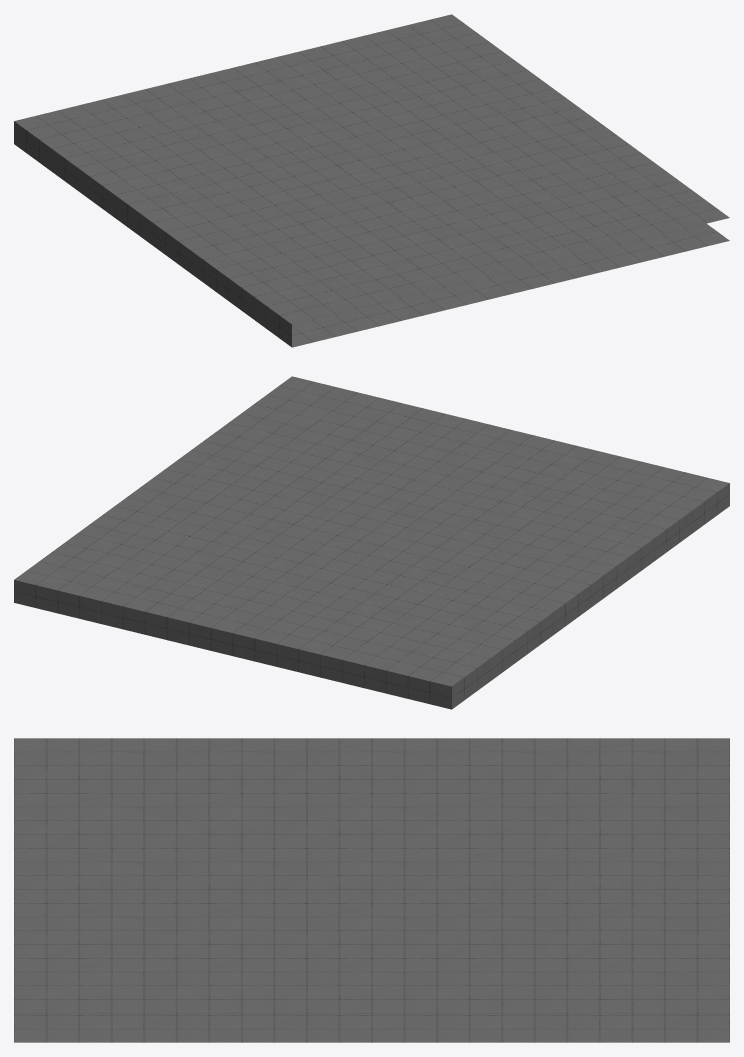
File: Ground.fbx
3 renders of one model, top to bottom at view 1: azimuth 30°, elevation 25°; view 2: azimuth 150°, elevation 25°; view 3: azimuth 270°, elevation 25°, orthographic. The views are drawn at different scales.
Visible parts, largest first — view 1: Mat_Tile_FloorCement02; view 2: Mat_Tile_FloorCement02; view 3: Mat_Tile_FloorCement02.
Part boxes in pixels (x1,y1,x2,y2): Mat_Tile_FloorCement02: (14, 14, 729, 347); Mat_Tile_FloorCement02: (14, 376, 729, 709); Mat_Tile_FloorCement02: (14, 738, 729, 1042).
Bounding box in the file's own units: 20 × 1 × 22.
1 material, 1 textured.
